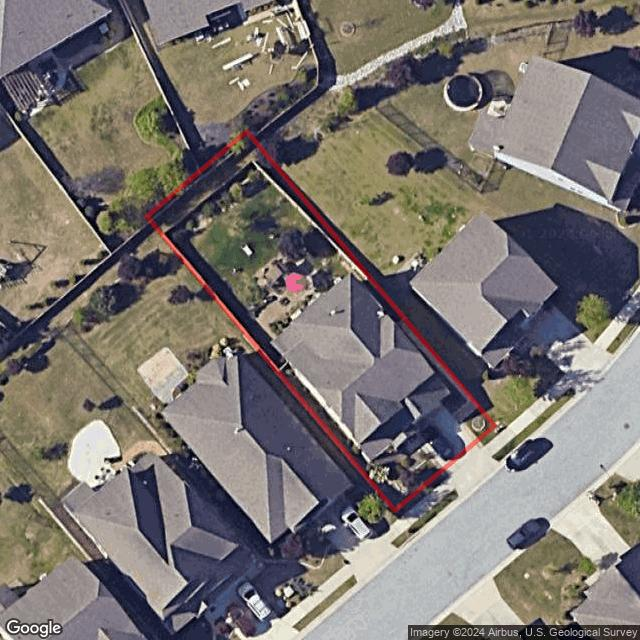Driveway: (410, 401, 480, 469)
Extra-Driveway: (442, 438, 501, 498)
Extra-Lawn: (394, 468, 450, 518), (410, 488, 460, 533), (492, 438, 520, 462), (479, 424, 501, 446)
Extra-Sidewalk: (400, 477, 455, 528), (485, 431, 514, 456)
House: (272, 274, 449, 463)
Lawn: (147, 133, 496, 511)
Other: (241, 235, 339, 371), (163, 163, 268, 243), (368, 447, 429, 490)
Sidewalk: (398, 436, 422, 457)
